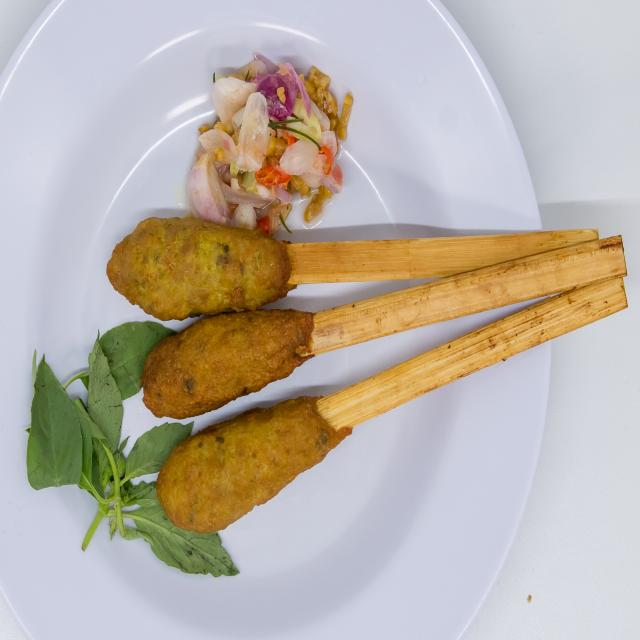Sate-Lilit: (103, 29, 505, 546)
